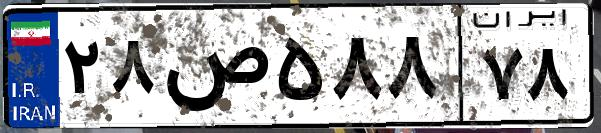2: (57, 26, 110, 100)
5: (270, 28, 330, 110)
7: (475, 38, 525, 113)
8: (385, 28, 445, 110), (330, 28, 385, 110), (525, 38, 570, 115), (110, 28, 158, 98)
ص: (158, 20, 270, 120)
